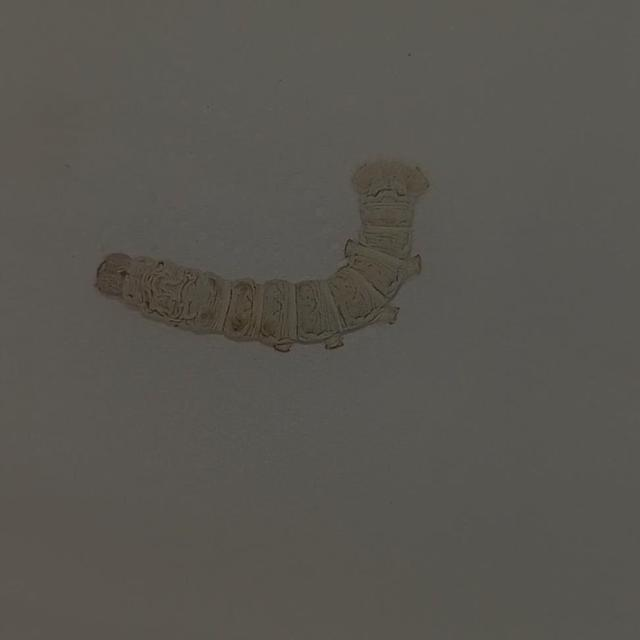Healthy: (65, 136, 473, 369)
